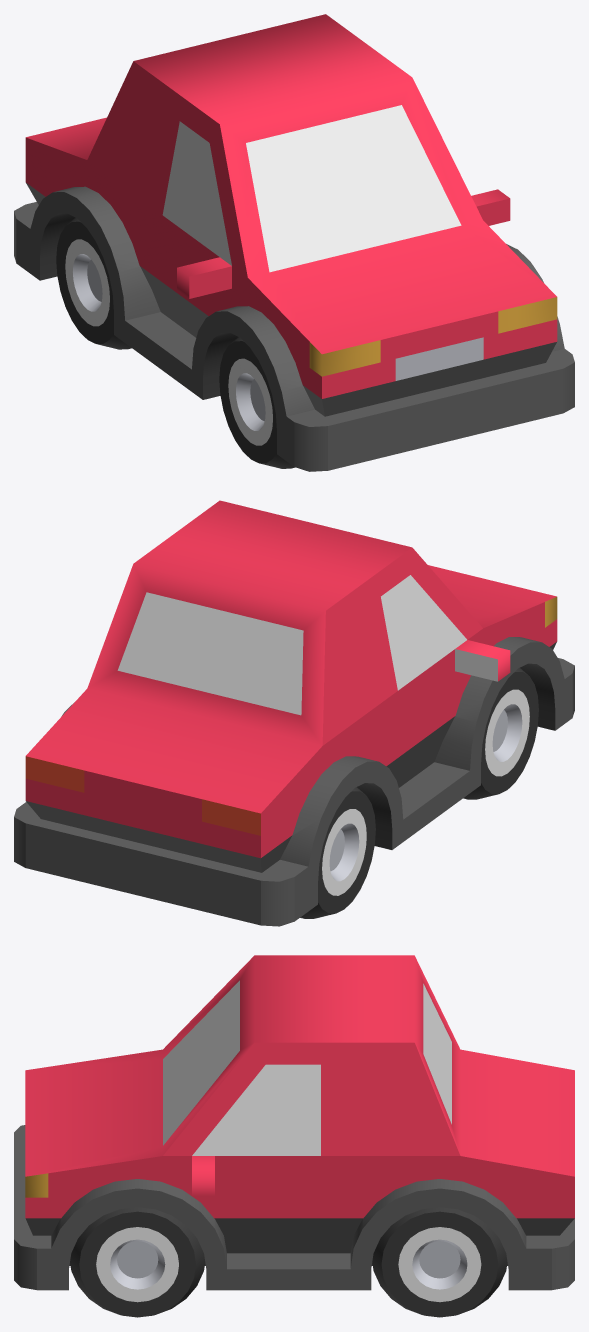
File: sedan.obj
3 views of the same model, one above another, from view 1: azimuth 30°, elevation 25°; view 2: azimuth 150°, elevation 25°; view 3: azimuth 270°, elevation 25° (orthographic). The views are drawn at different scales.
Parts seen in each view (by area): view 1: body, wheel_backRight, wheel_frontRight; view 2: body, wheel_frontRight, wheel_backRight; view 3: body, wheel_backLeft, wheel_frontLeft.
Boxes of the visible parts, x1,y1,x2,y2 form: body: (14, 14, 574, 471); wheel_backRight: (56, 217, 131, 349); wheel_frontRight: (219, 337, 295, 468); body: (14, 500, 574, 926); wheel_frontRight: (463, 667, 538, 799); wheel_backRight: (300, 787, 375, 918); body: (14, 955, 574, 1290); wheel_backLeft: (372, 1207, 507, 1317); wheel_frontLeft: (70, 1207, 205, 1317).
Size of the model in its own units: 1.5 by 1.3 by 2.45.
